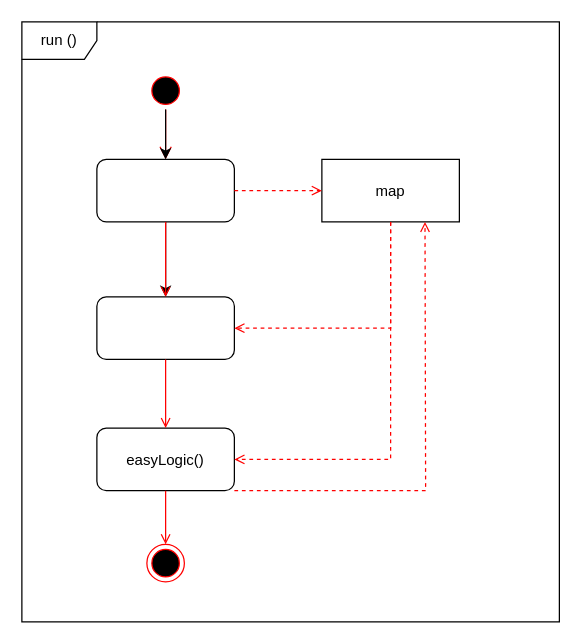
The diagram is 581 pixels wide and 644 high, and some of its shapes have lost their labels. Here are the shapes that lost their labels. From the top down, the centre of each, then its label:
At point (165, 190): "mapGen()".
At point (165, 327): "printMap()".
